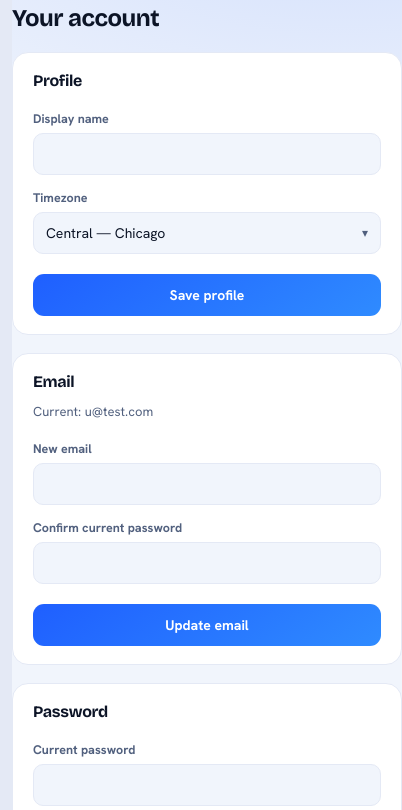
Test: ProfilePage › saves the profile and shows a success status
Expected: the heading "Profile" is shown, [33, 71, 82, 90]
Type "Siva" into the field labelled "Display name". click: (207, 154)
box: [33, 133, 381, 175]
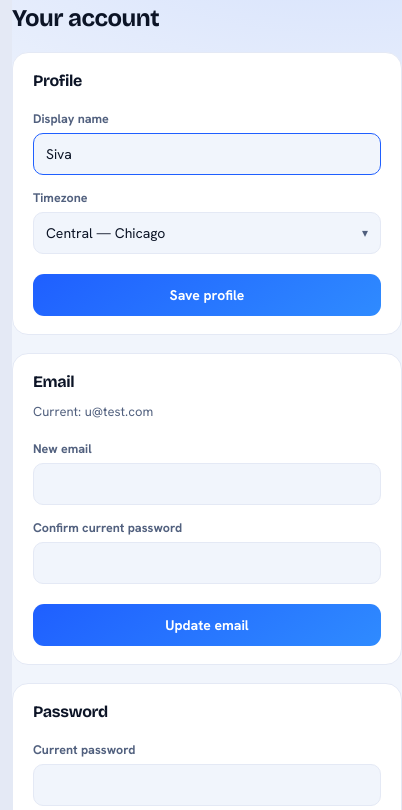
Click the button "Save profile". click: click(207, 295)
box: [33, 274, 381, 316]
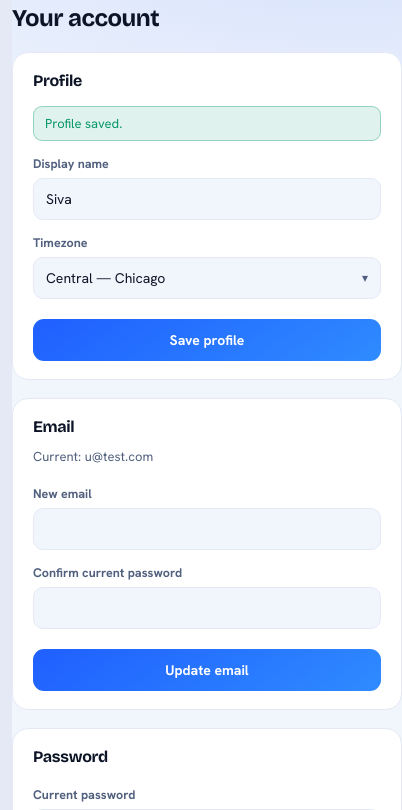
Now the text "Profile saved." is shown, box [33, 106, 381, 141]
